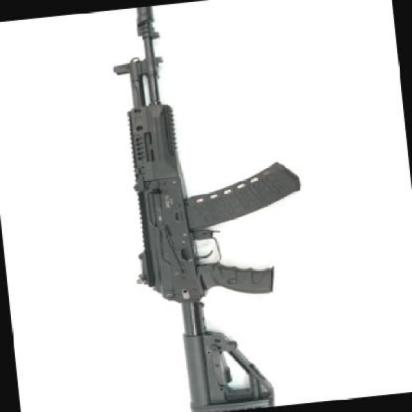Gun: (111, 0, 302, 412)
